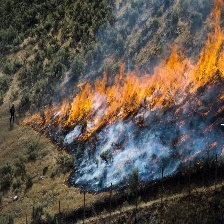fire: (50, 38, 224, 127)
smoke: (67, 127, 169, 186)
